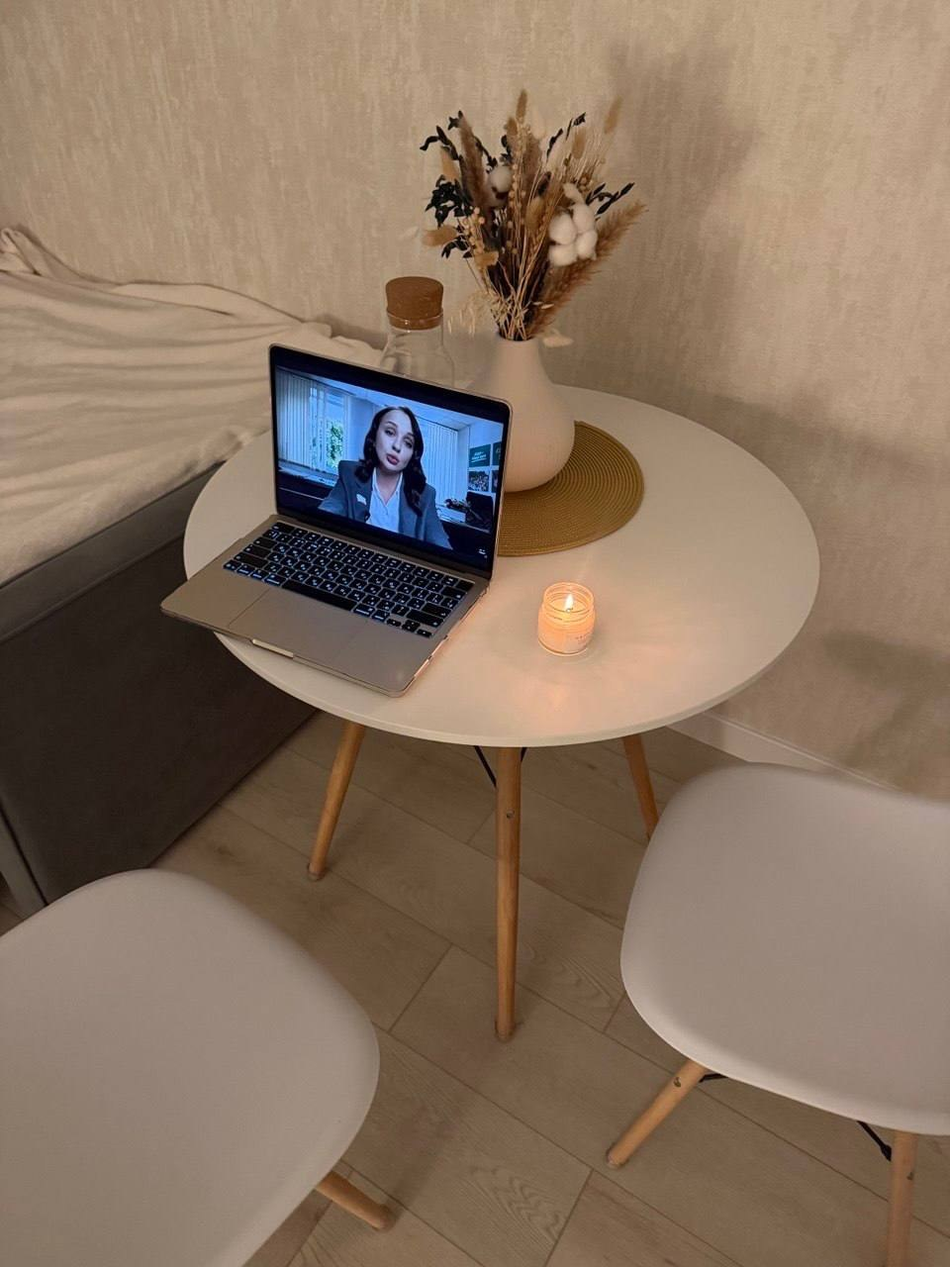laptop: (160, 343, 513, 697)
